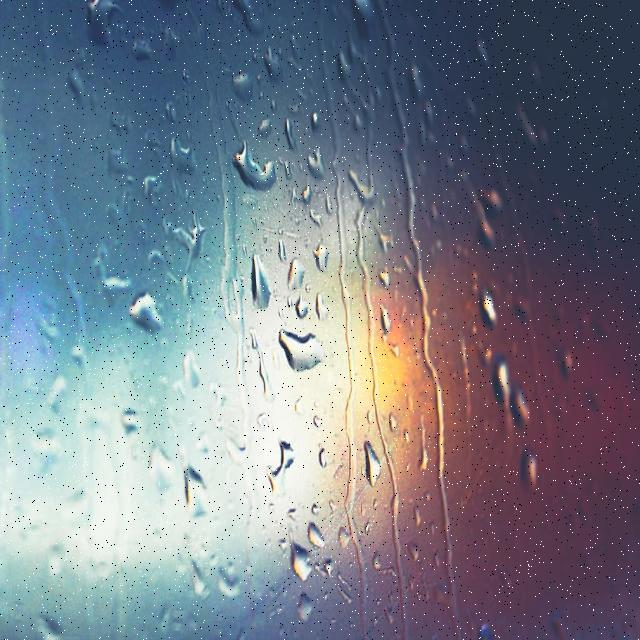raindrop: (270, 313, 342, 385), (228, 128, 290, 202), (260, 424, 314, 508), (174, 432, 225, 519), (118, 265, 172, 347), (272, 529, 323, 597), (507, 434, 552, 502), (486, 348, 520, 436), (243, 247, 280, 323), (354, 424, 390, 496), (470, 276, 508, 338), (296, 226, 334, 280), (277, 252, 316, 302)
